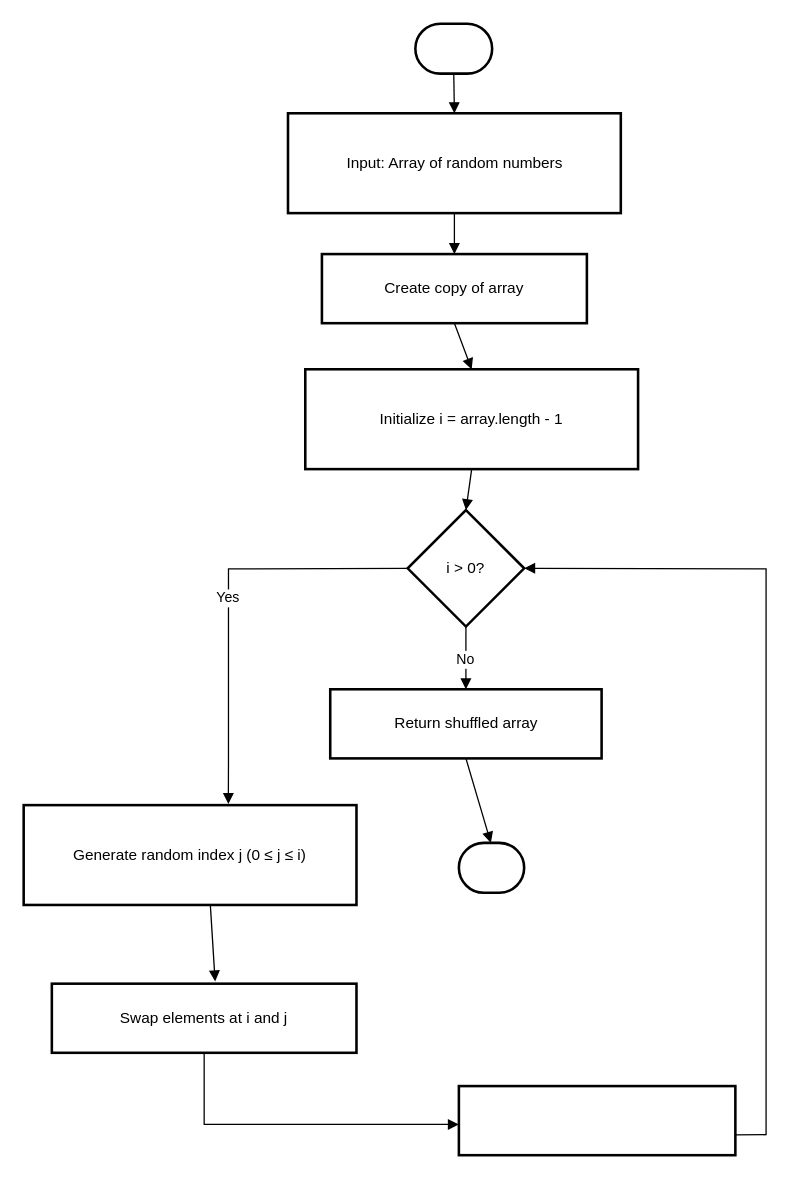
Image size: 799x1178. Some labels were removed from this diagram. Here are the shapes that lost their labels. From the top down, the centre of each, then its label:
At (x=453, y=48): "Start".
At (x=491, y=867): "End".
At (x=596, y=1120): "Decrement i (i = i - 1)".
